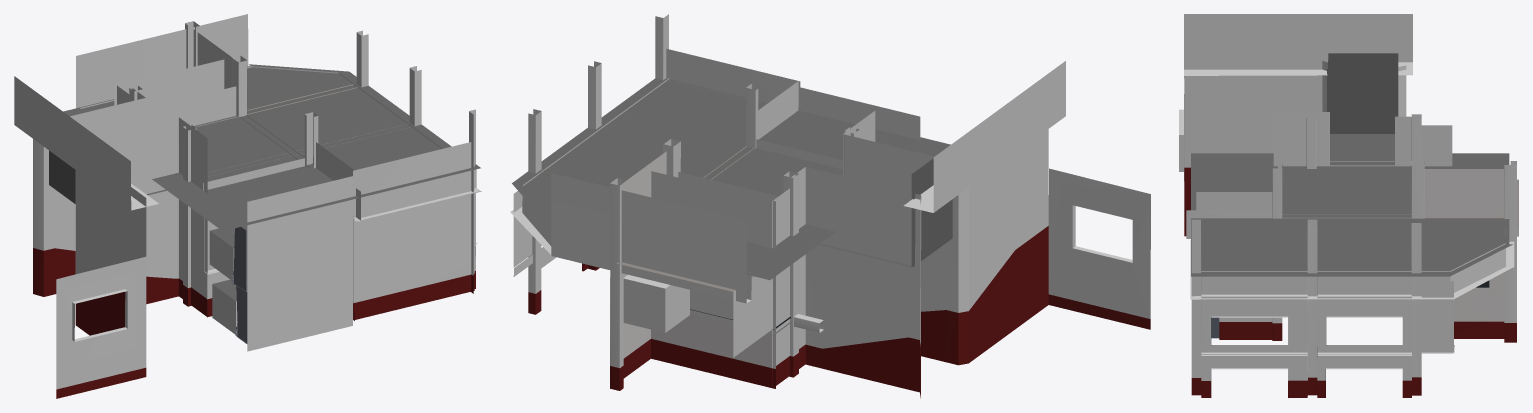
File: SM_H_Building_Tide_Jail_B_01_ATLAS.fbx
The picture shows the model from 3 angles, left to right: view 1: azimuth 30°, elevation 25°; view 2: azimuth 150°, elevation 25°; view 3: azimuth 270°, elevation 25°; orthographic projection. The views are drawn at different scales.
Parts seen in each view (by area): view 1: SM_H_Building_Tide_Jail_B_01_ATLAS; view 2: SM_H_Building_Tide_Jail_B_01_ATLAS; view 3: SM_H_Building_Tide_Jail_B_01_ATLAS.
Part boxes in pixels (x1,y1,x2,y2): SM_H_Building_Tide_Jail_B_01_ATLAS: (14,14,481,398); SM_H_Building_Tide_Jail_B_01_ATLAS: (510,14,1150,398); SM_H_Building_Tide_Jail_B_01_ATLAS: (1179,14,1518,397).
Size of the model in its own units: 4603 by 3213 by 2296.
